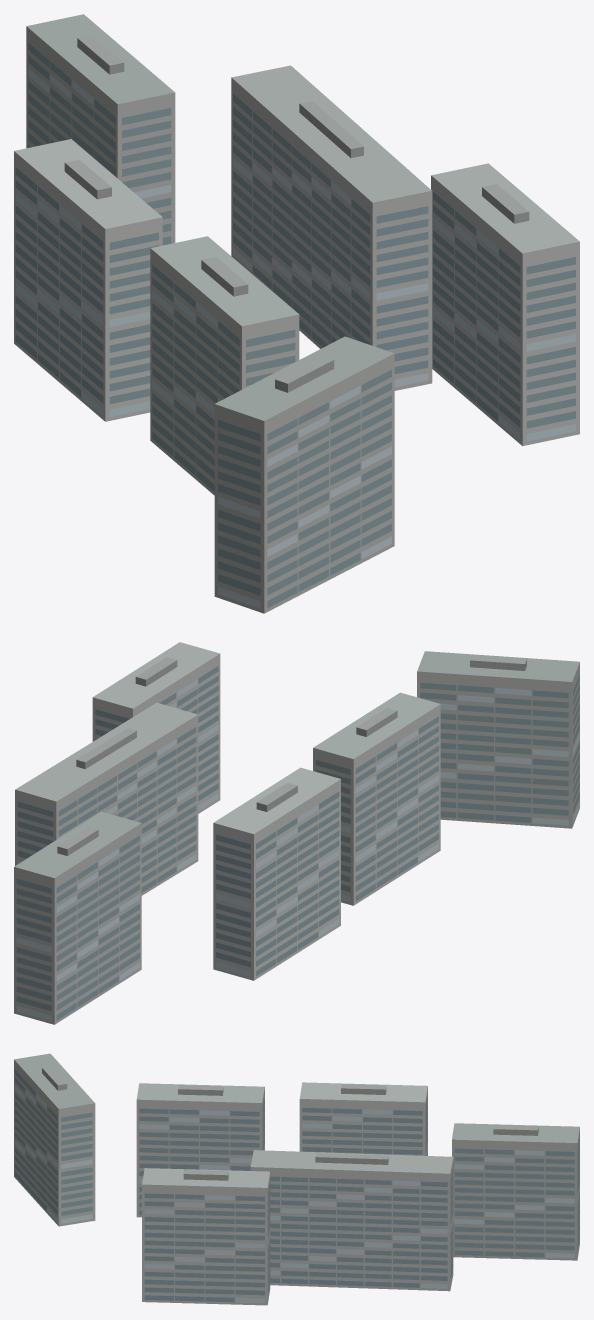
File: apt-a12010203.glb
The picture shows the model from 3 angles, top to bottom: view 1: azimuth 30°, elevation 25°; view 2: azimuth 150°, elevation 25°; view 3: azimuth 270°, elevation 25°; orthographic projection. The views are drawn at different scales.
Parts seen in each view (by area): view 1: apt-a12010203; view 2: apt-a12010203; view 3: apt-a12010203.
Part boxes in pixels (x1,y1,x2,y2): apt-a12010203: [14, 14, 579, 613]; apt-a12010203: [14, 642, 579, 1024]; apt-a12010203: [14, 1053, 579, 1305].
Bounding box in the file's own units: 96.11 × 41 × 171.
